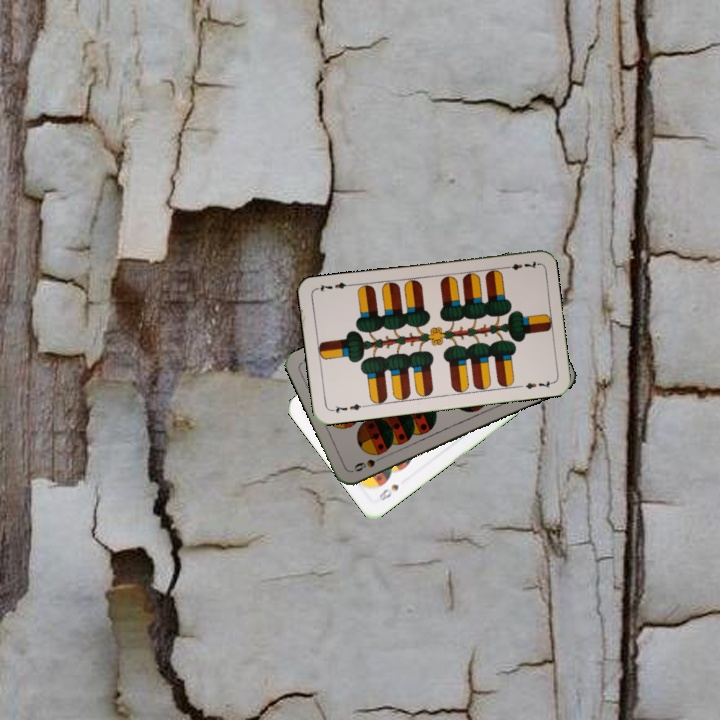E7: (327, 399, 368, 416), (500, 257, 540, 273)
S8: (375, 480, 402, 504)
S9: (350, 451, 388, 474)
